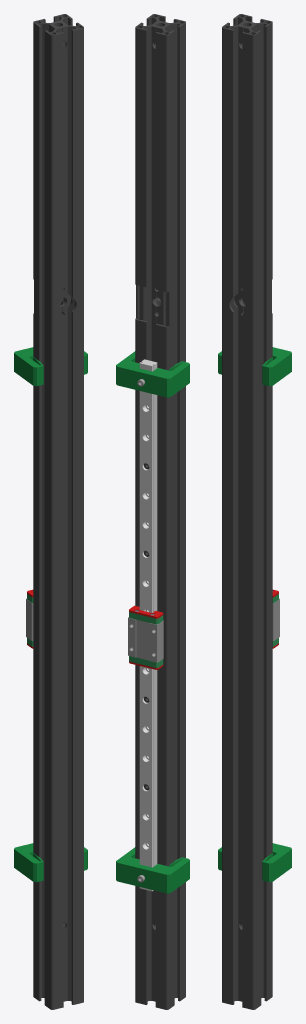
The picture shows the model from 3 angles, left to right: view 1: azimuth 30°, elevation 25°; view 2: azimuth 150°, elevation 25°; view 3: azimuth 330°, elevation 25°; orthographic projection.
Parts seen in each view (by area): view 1: 01_01__XP__Alu_3030_Pillar___V2.0 v24, 02_47__XP__Fix_MGN12_Rail___V1.0 v4, 02_47__XP__Fix_MGN12_Rail___V1.0 v005, MGN12H, LINEAR GUIDE BLOCK v1; view 2: 01_01__XP__Alu_3030_Pillar___V2.0 v24, MGNR12R450HM_FILE_2 v1, 02_47__XP__Fix_MGN12_Rail___V1.0 v4, 02_47__XP__Fix_MGN12_Rail___V1.0 v005, MGN12H, LINEAR GUIDE BLOCK v1, MGN12H, LINEAR GUIDE BLOCK v002, MGN12H, LINEAR GUIDE BLOCK v003, MGN12H, LINEAR GUIDE BLOCK v005; view 3: 01_01__XP__Alu_3030_Pillar___V2.0 v24, 02_47__XP__Fix_MGN12_Rail___V1.0 v4, 02_47__XP__Fix_MGN12_Rail___V1.0 v005, MGN12H, LINEAR GUIDE BLOCK v1.
Boxes of the visible parts, box(x1,y1,x2,y2) form: 01_01__XP__Alu_3030_Pillar___V2.0 v24: box(33, 14, 83, 1009); 02_47__XP__Fix_MGN12_Rail___V1.0 v4: box(14, 843, 87, 882); 02_47__XP__Fix_MGN12_Rail___V1.0 v005: box(14, 347, 87, 386); MGN12H, LINEAR GUIDE BLOCK v1: box(26, 598, 33, 640); 01_01__XP__Alu_3030_Pillar___V2.0 v24: box(135, 14, 185, 1009); MGNR12R450HM_FILE_2 v1: box(139, 359, 157, 891); 02_47__XP__Fix_MGN12_Rail___V1.0 v4: box(116, 847, 189, 893); 02_47__XP__Fix_MGN12_Rail___V1.0 v005: box(116, 351, 189, 397); MGN12H, LINEAR GUIDE BLOCK v1: box(128, 617, 163, 662); MGN12H, LINEAR GUIDE BLOCK v002: box(129, 612, 163, 624); MGN12H, LINEAR GUIDE BLOCK v003: box(129, 656, 163, 667); MGN12H, LINEAR GUIDE BLOCK v005: box(129, 605, 163, 618); 01_01__XP__Alu_3030_Pillar___V2.0 v24: box(222, 14, 272, 1009); 02_47__XP__Fix_MGN12_Rail___V1.0 v4: box(218, 843, 291, 882); 02_47__XP__Fix_MGN12_Rail___V1.0 v005: box(218, 347, 291, 386); MGN12H, LINEAR GUIDE BLOCK v1: box(272, 598, 279, 640).
Bounding box in the file's own units: 0.049 × 0.835 × 0.047.
